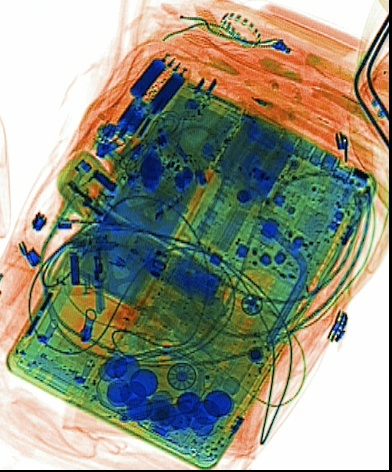powerbank: (211, 110, 307, 207)
